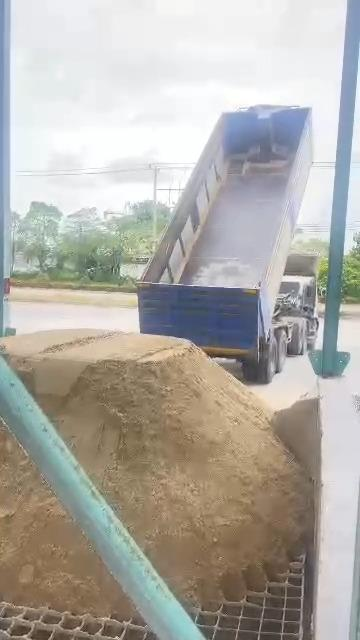sand: (1, 330, 310, 603), (1, 428, 130, 616), (272, 393, 320, 480)
